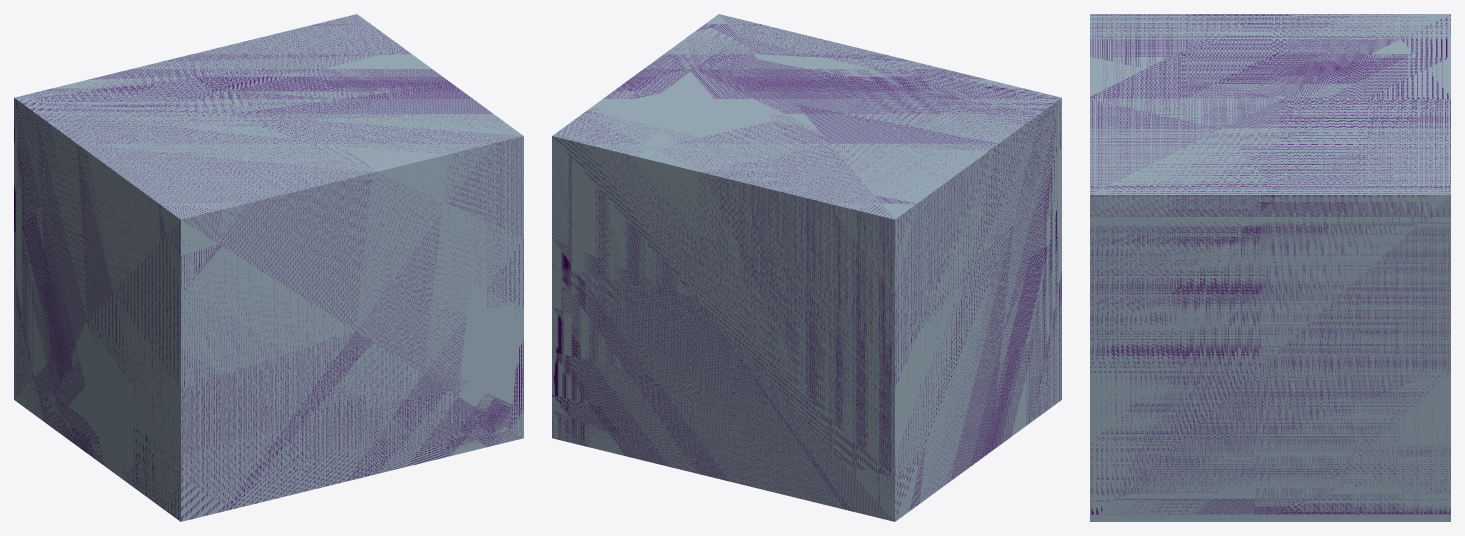
Rendered from SimpleMagneticConduction.obj.
The picture shows the model from 3 angles, left to right: view 1: azimuth 30°, elevation 25°; view 2: azimuth 150°, elevation 25°; view 3: azimuth 270°, elevation 25°; orthographic projection. The views are drawn at different scales.
Parts seen in each view (by area): view 1: Mesh3 Model; view 2: Mesh3 Model; view 3: Mesh3 Model.
Boxes of the visible parts, x1,y1,x2,y2 form: Mesh3 Model: (14,14,523,521); Mesh3 Model: (552,14,1061,521); Mesh3 Model: (1090,14,1450,521).
Bounding box in the file's own units: 190 × 160 × 160.
